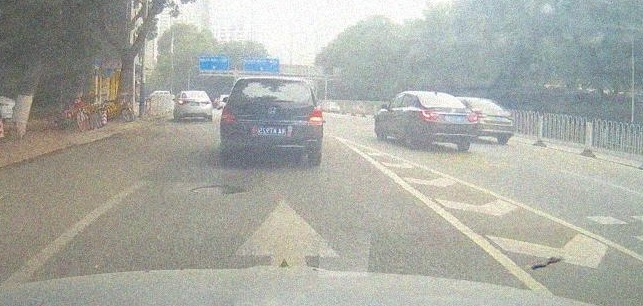L_light: (221, 107, 235, 121), (420, 110, 438, 120), (177, 100, 185, 105)
R_light: (310, 109, 322, 123), (466, 113, 478, 122), (204, 100, 211, 104)
T_light: (267, 80, 279, 84), (432, 94, 441, 97), (190, 92, 197, 94)
day-left: (177, 90, 212, 121)
day-no: (417, 91, 479, 150)
day-right: (220, 76, 323, 164)
